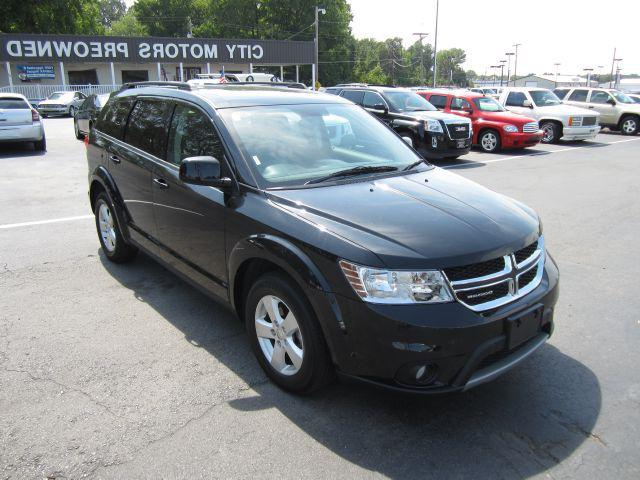Car: (58, 65, 582, 421)
